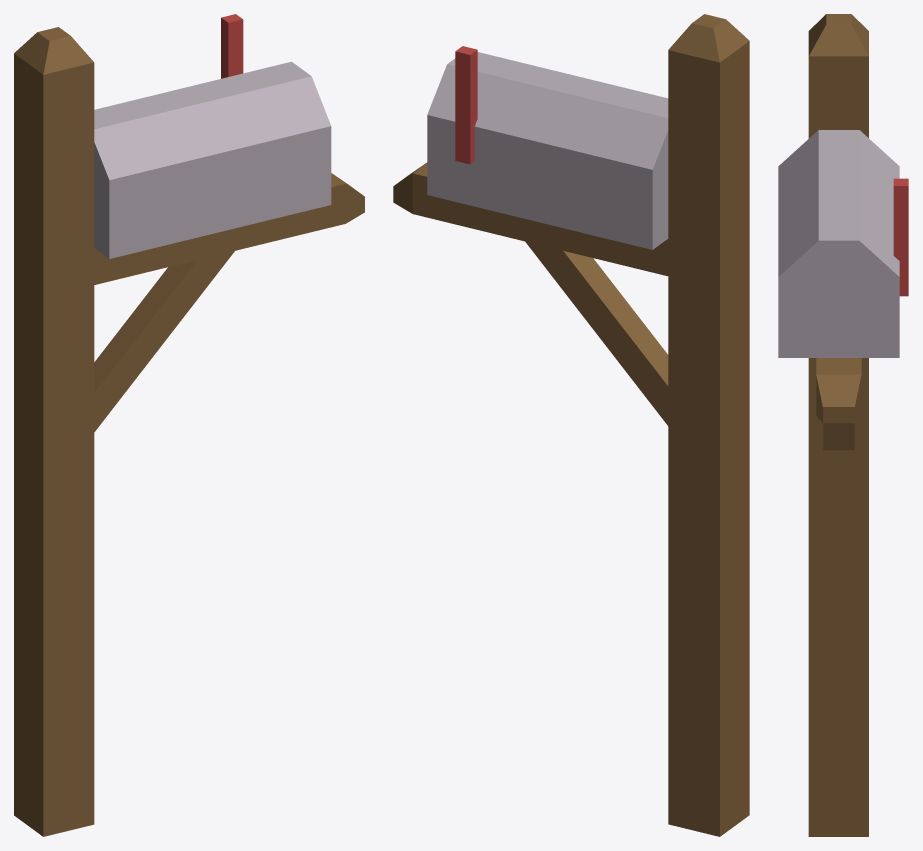
The model's file is mailbox_1.fbx.
3 views of the same model, side by side, from view 1: azimuth 30°, elevation 25°; view 2: azimuth 150°, elevation 25°; view 3: azimuth 270°, elevation 25° (orthographic). The views are drawn at different scales.
Parts seen in each view (by area): view 1: mailbox_1; view 2: mailbox_1; view 3: mailbox_1.
Boxes of the visible parts, x1,y1,x2,y2 form: mailbox_1: (14, 14, 364, 836); mailbox_1: (393, 14, 749, 836); mailbox_1: (778, 14, 908, 836).
Bounding box in the file's own units: 144 × 328 × 48.09.
